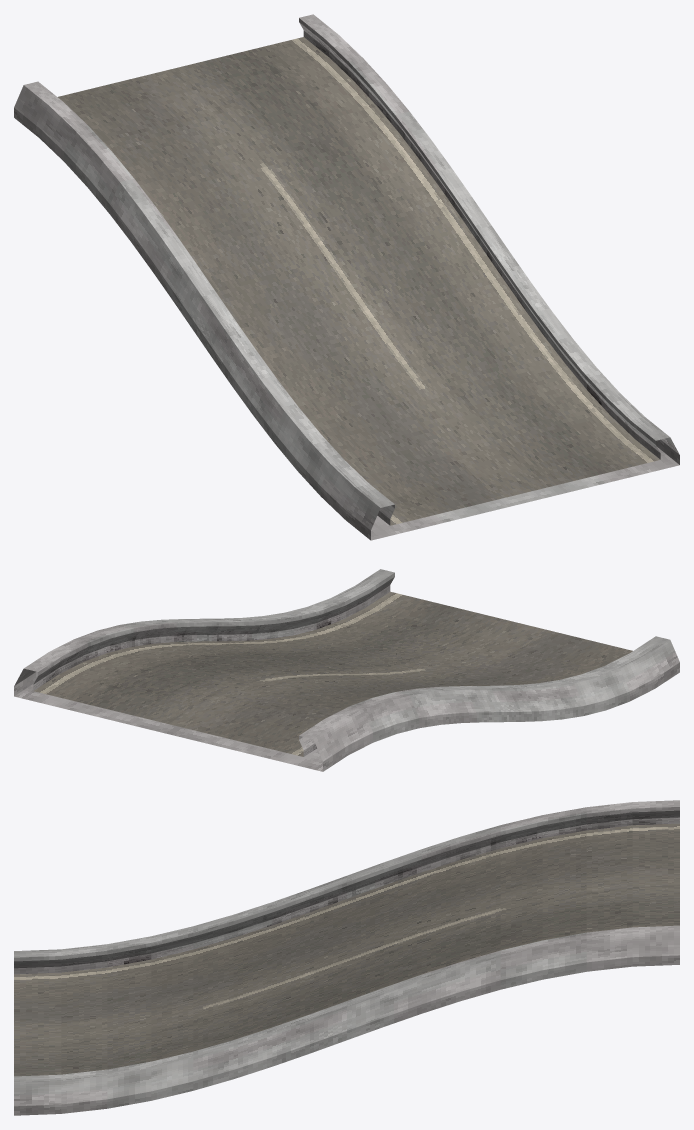
File: straight2.glb
The picture shows the model from 3 angles, top to bottom: view 1: azimuth 30°, elevation 25°; view 2: azimuth 150°, elevation 25°; view 3: azimuth 270°, elevation 25°; orthographic projection. The views are drawn at different scales.
Visible parts, largest first — view 1: road-Straight-Flat-Flat-Up2-Center-Size2; view 2: road-Straight-Flat-Flat-Up2-Center-Size2; view 3: road-Straight-Flat-Flat-Up2-Center-Size2.
Boxes of the visible parts, x1,y1,x2,y2 form: road-Straight-Flat-Flat-Up2-Center-Size2: [14, 14, 679, 540]; road-Straight-Flat-Flat-Up2-Center-Size2: [14, 569, 679, 771]; road-Straight-Flat-Flat-Up2-Center-Size2: [14, 800, 679, 1115].
Size of the model in its own units: 1 by 0.5938 by 2.
Materials: 2 (2 with a texture image).
